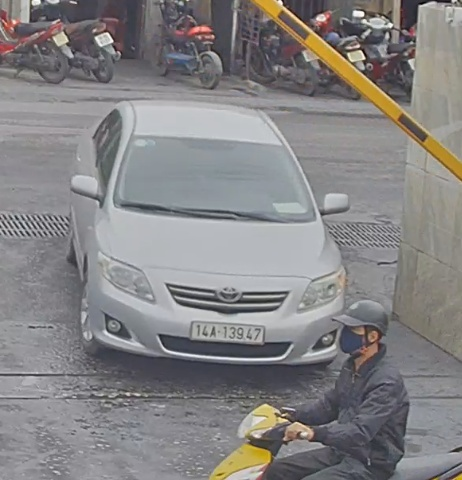vehicle plate: (181, 310, 265, 342)
